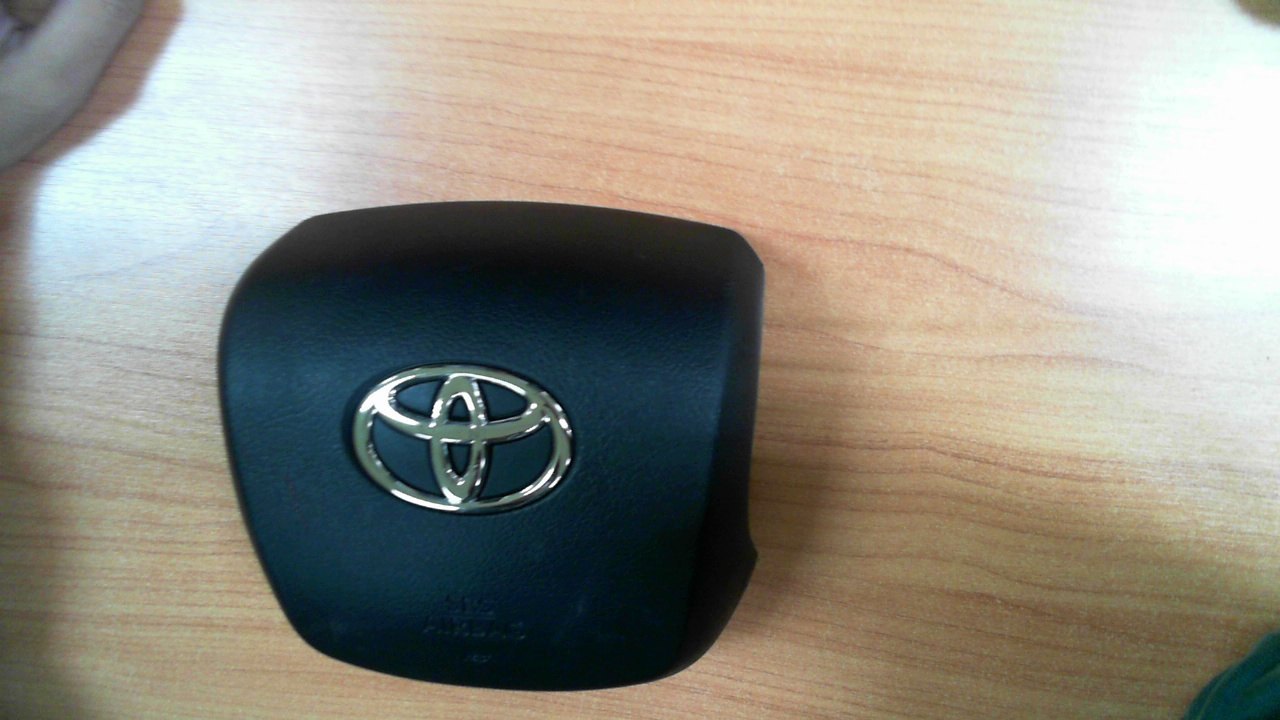Airbag: (214, 198, 767, 696)
Toyota: (353, 365, 573, 514)
